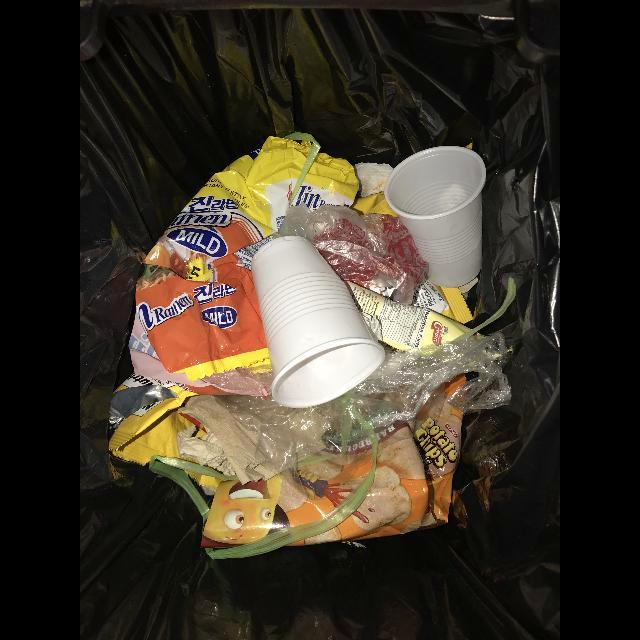food_wrapper: (129, 137, 360, 385), (203, 374, 467, 547), (108, 374, 203, 466)
paper: (177, 395, 280, 485)
plastic_container: (251, 236, 385, 408), (384, 146, 487, 289)
